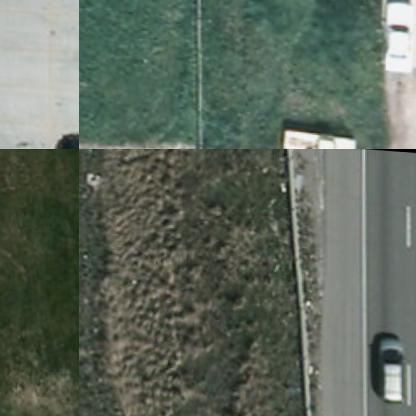car: (383, 0, 414, 71), (375, 329, 404, 398), (54, 125, 78, 148)
pickup: (280, 121, 354, 148)
